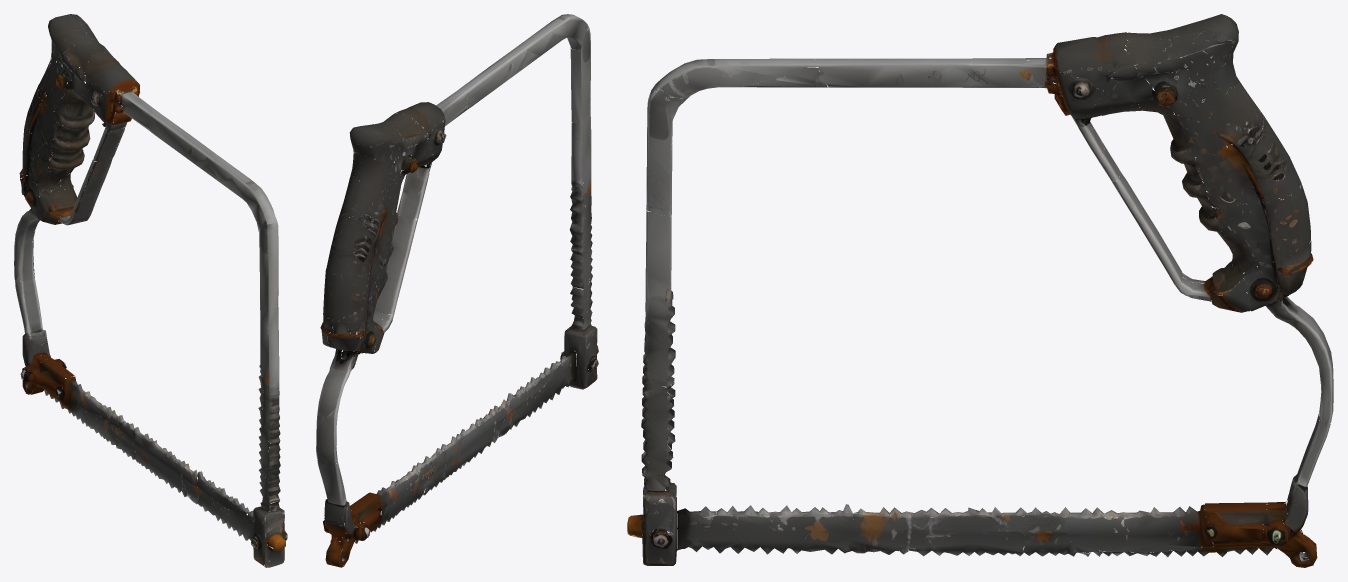
Rendered from hacksaw.glb.
3 renders of one model, left to right at view 1: azimuth 30°, elevation 25°; view 2: azimuth 150°, elevation 25°; view 3: azimuth 270°, elevation 25°, orthographic. The views are drawn at different scales.
Visible parts, largest first — view 1: tripo_node_d1c7c3c5-690f-4c4a-975d-7c60a9aece77; view 2: tripo_node_d1c7c3c5-690f-4c4a-975d-7c60a9aece77; view 3: tripo_node_d1c7c3c5-690f-4c4a-975d-7c60a9aece77.
Boxes of the visible parts, x1,y1,x2,y2 form: tripo_node_d1c7c3c5-690f-4c4a-975d-7c60a9aece77: (14, 14, 287, 567); tripo_node_d1c7c3c5-690f-4c4a-975d-7c60a9aece77: (316, 14, 598, 567); tripo_node_d1c7c3c5-690f-4c4a-975d-7c60a9aece77: (627, 14, 1333, 567).
Bounding box in the file's own units: 0.119 × 0.851 × 0.9996.
1 material, 1 textured.
